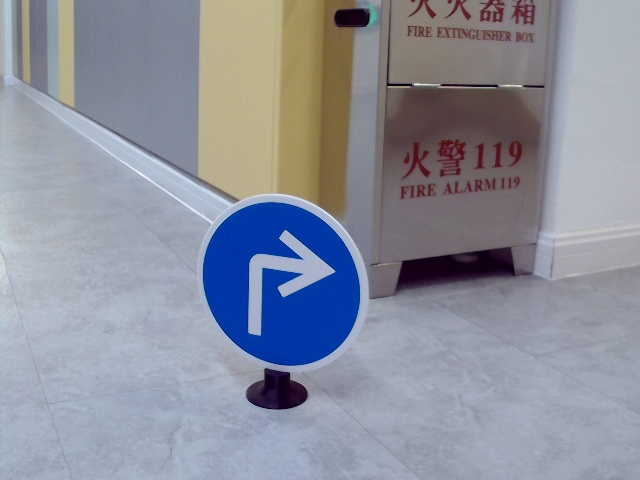turn_right: (236, 222, 333, 338)
